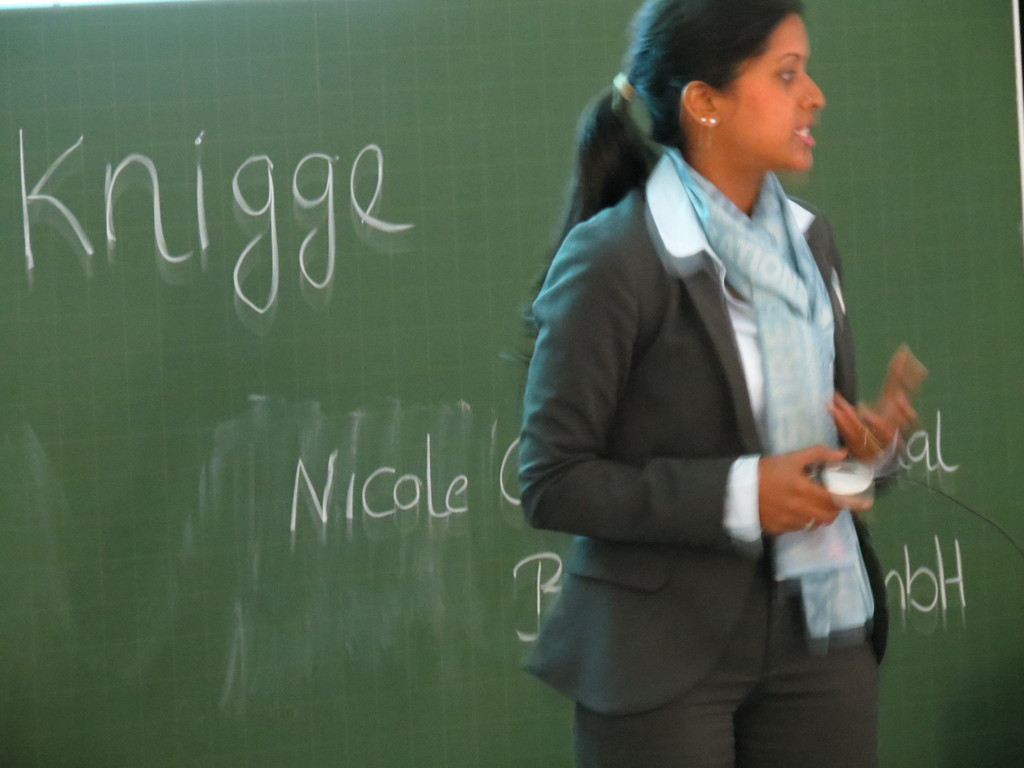Person: (518, 0, 925, 768)
